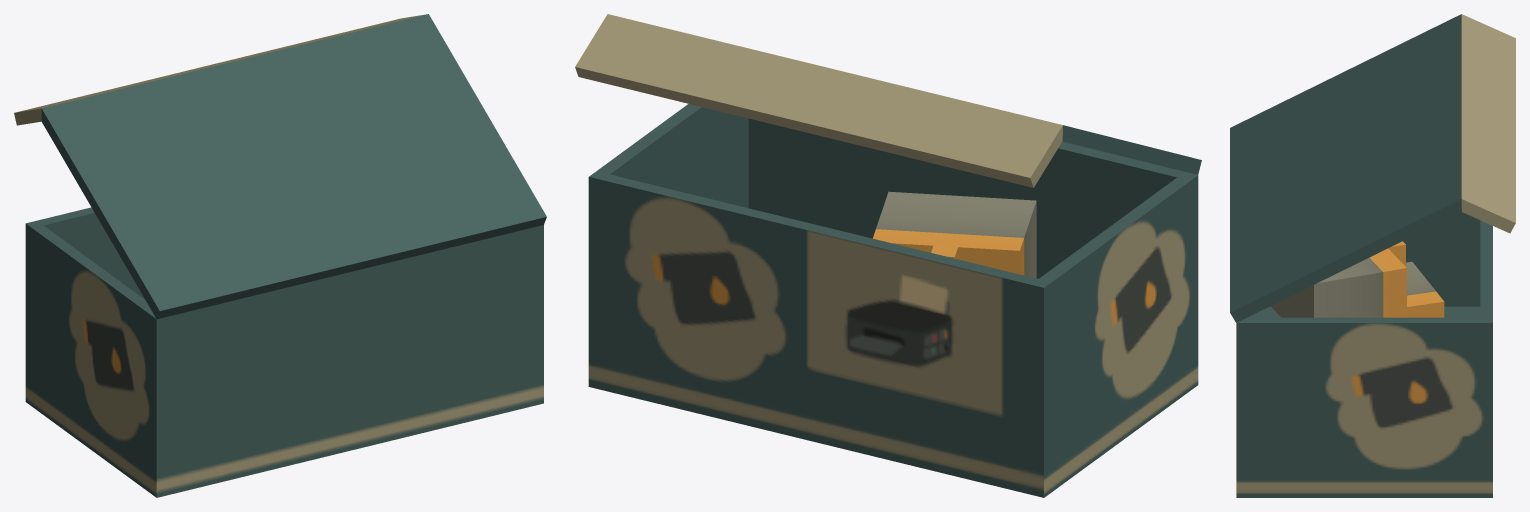
File: SM_CartridgeBox_Y.fbx
3 renders of one model, left to right at view 1: azimuth 30°, elevation 25°; view 2: azimuth 150°, elevation 25°; view 3: azimuth 270°, elevation 25°, orthographic. The views are drawn at different scales.
Parts seen in each view (by area): view 1: SM_CartridgeBox_Y; view 2: SM_CartridgeBox_Y; view 3: SM_CartridgeBox_Y.
Boxes of the visible parts, x1,y1,x2,y2 form: SM_CartridgeBox_Y: (14, 14, 546, 497); SM_CartridgeBox_Y: (575, 14, 1201, 497); SM_CartridgeBox_Y: (1230, 14, 1515, 497).
Size of the model in its own units: 34.21 by 25.78 by 22.33.
